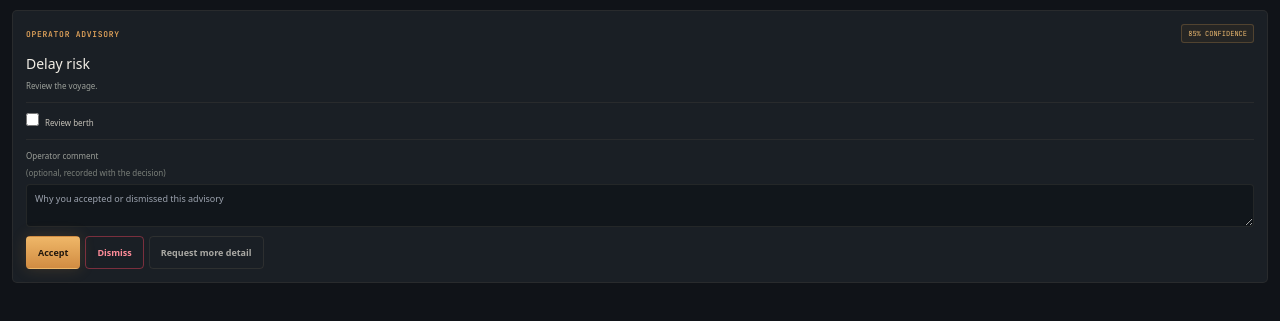
Test: AdvisoryCard › submits an accepted decision and disables both decision buttons
This screenshot has width=1280, height=321.
Click the button "Accept".
click(53, 252)  # box x1=26 y1=236 x2=80 y2=269
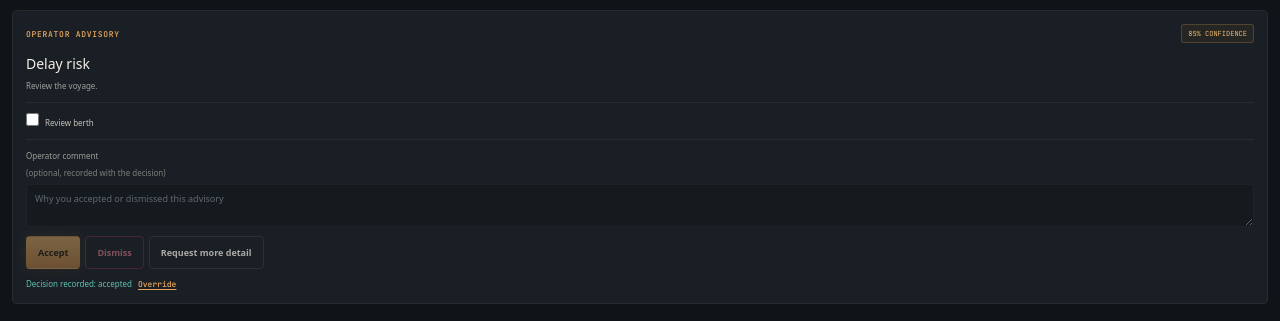
Result: the button "Accept" is disabled at x1=26 y1=236 x2=80 y2=269
Result: the button "Dismiss" is disabled at x1=85 y1=236 x2=144 y2=269
Result: the text "Decision recorded: accepted Override" is shown at x1=26 y1=278 x2=176 y2=289
